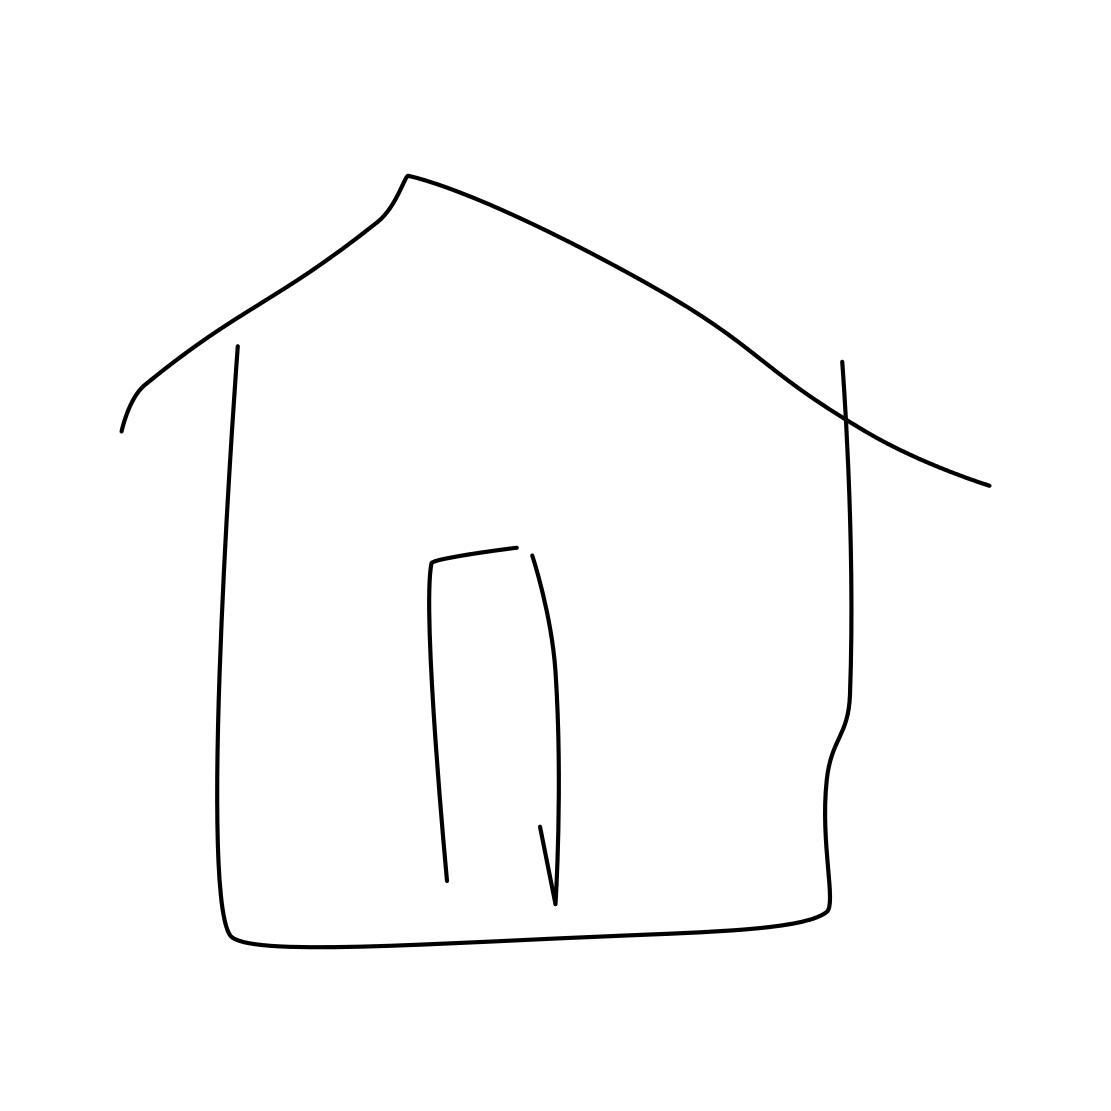House: (97, 150, 1001, 968)
